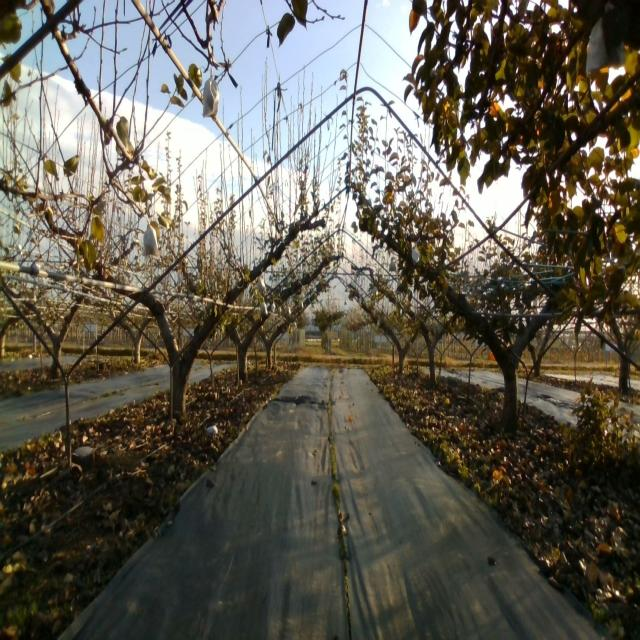pearbags: (202, 67, 220, 121), (141, 216, 160, 257)
